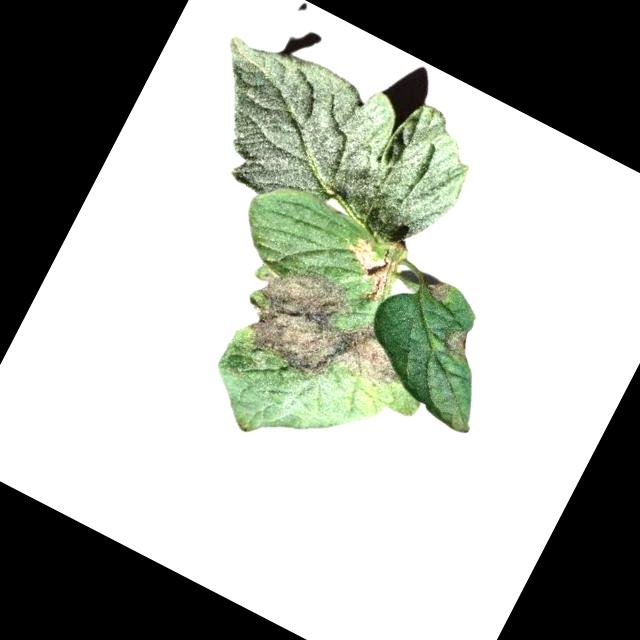Late_blight: (219, 247, 428, 420), (329, 233, 403, 307), (435, 323, 479, 368), (421, 275, 453, 305)
